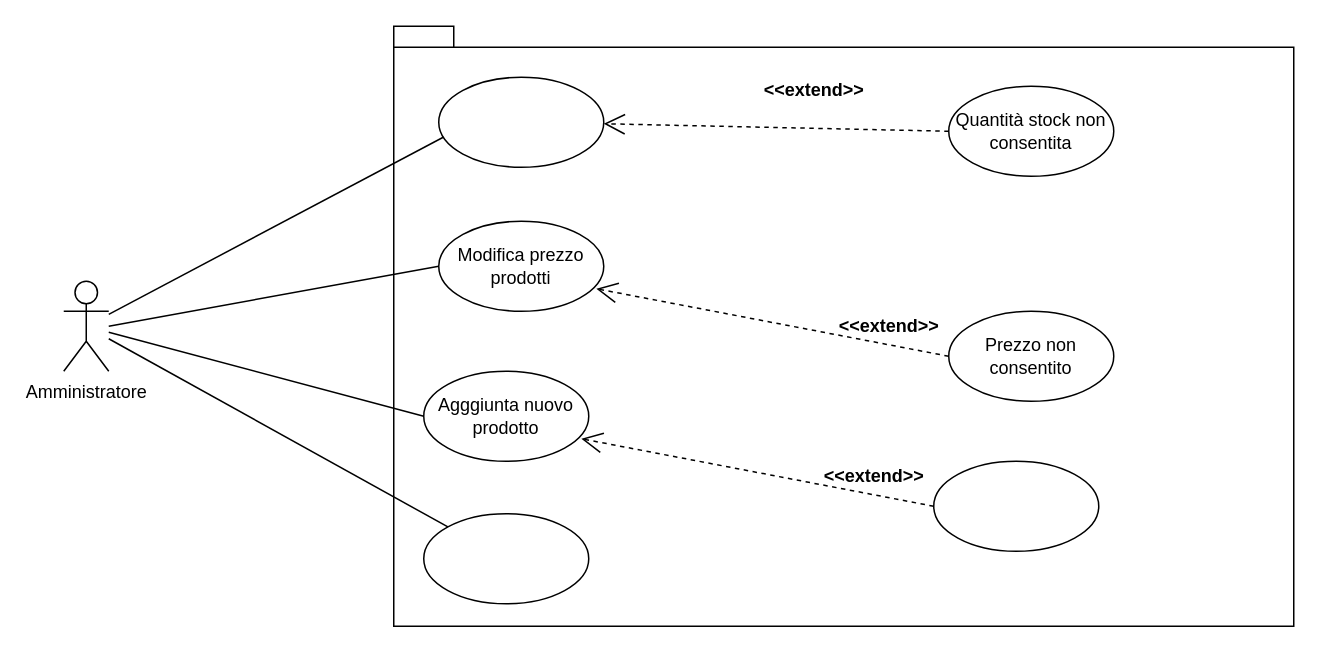
Image size: 1320x665. Some labels were removed from this diagram. Each missing label, with the centre of its shape:
"Compilazione errata Form prodotto" belongs at (1015,505).
"Eliminazione prodotto" belongs at (505,558).
"Modifica Stock Prodotto" belongs at (520,121).
